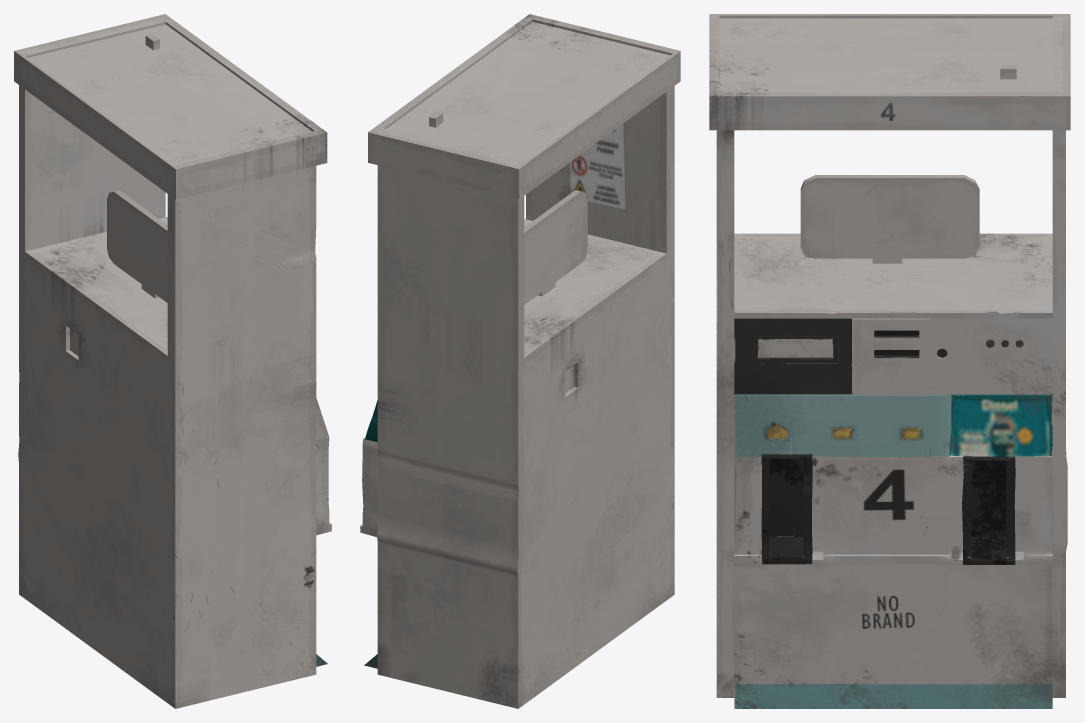
Rendered from gasstation2.gltf.
3 renders of one model, left to right at view 1: azimuth 30°, elevation 25°; view 2: azimuth 150°, elevation 25°; view 3: azimuth 270°, elevation 25°, orthographic. The views are drawn at different scales.
Parts seen in each view (by area): view 1: pCube3 group1; view 2: pCube3 group1; view 3: pCube3 group1.
Boxes of the visible parts, <box> form: pCube3 group1: <box>14,14,331,708</box>; pCube3 group1: <box>360,14,680,708</box>; pCube3 group1: <box>709,14,1070,708</box>.
Size of the model in its own units: 219 by 650 by 347.
Materials: 1 (1 with a texture image).
